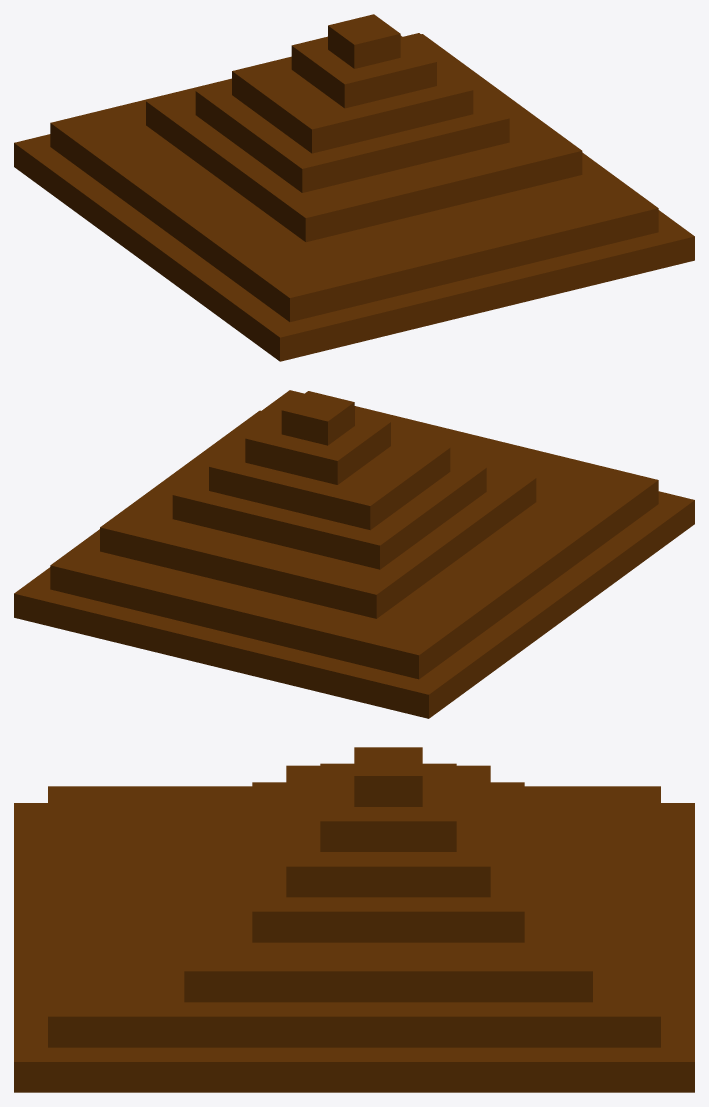
File: CowPatDae.dae
The picture shows the model from 3 angles, top to bottom: view 1: azimuth 30°, elevation 25°; view 2: azimuth 150°, elevation 25°; view 3: azimuth 270°, elevation 25°; orthographic projection. The views are drawn at different scales.
Visible parts, largest first — view 1: PlaneCOL; view 2: PlaneCOL; view 3: PlaneCOL.
Boxes of the visible parts, x1,y1,x2,y2 form: PlaneCOL: (14,14,694,361); PlaneCOL: (14,390,694,718); PlaneCOL: (14,747,694,1092).
Size of the model in its own units: 1.8 by 2 by 0.7.
